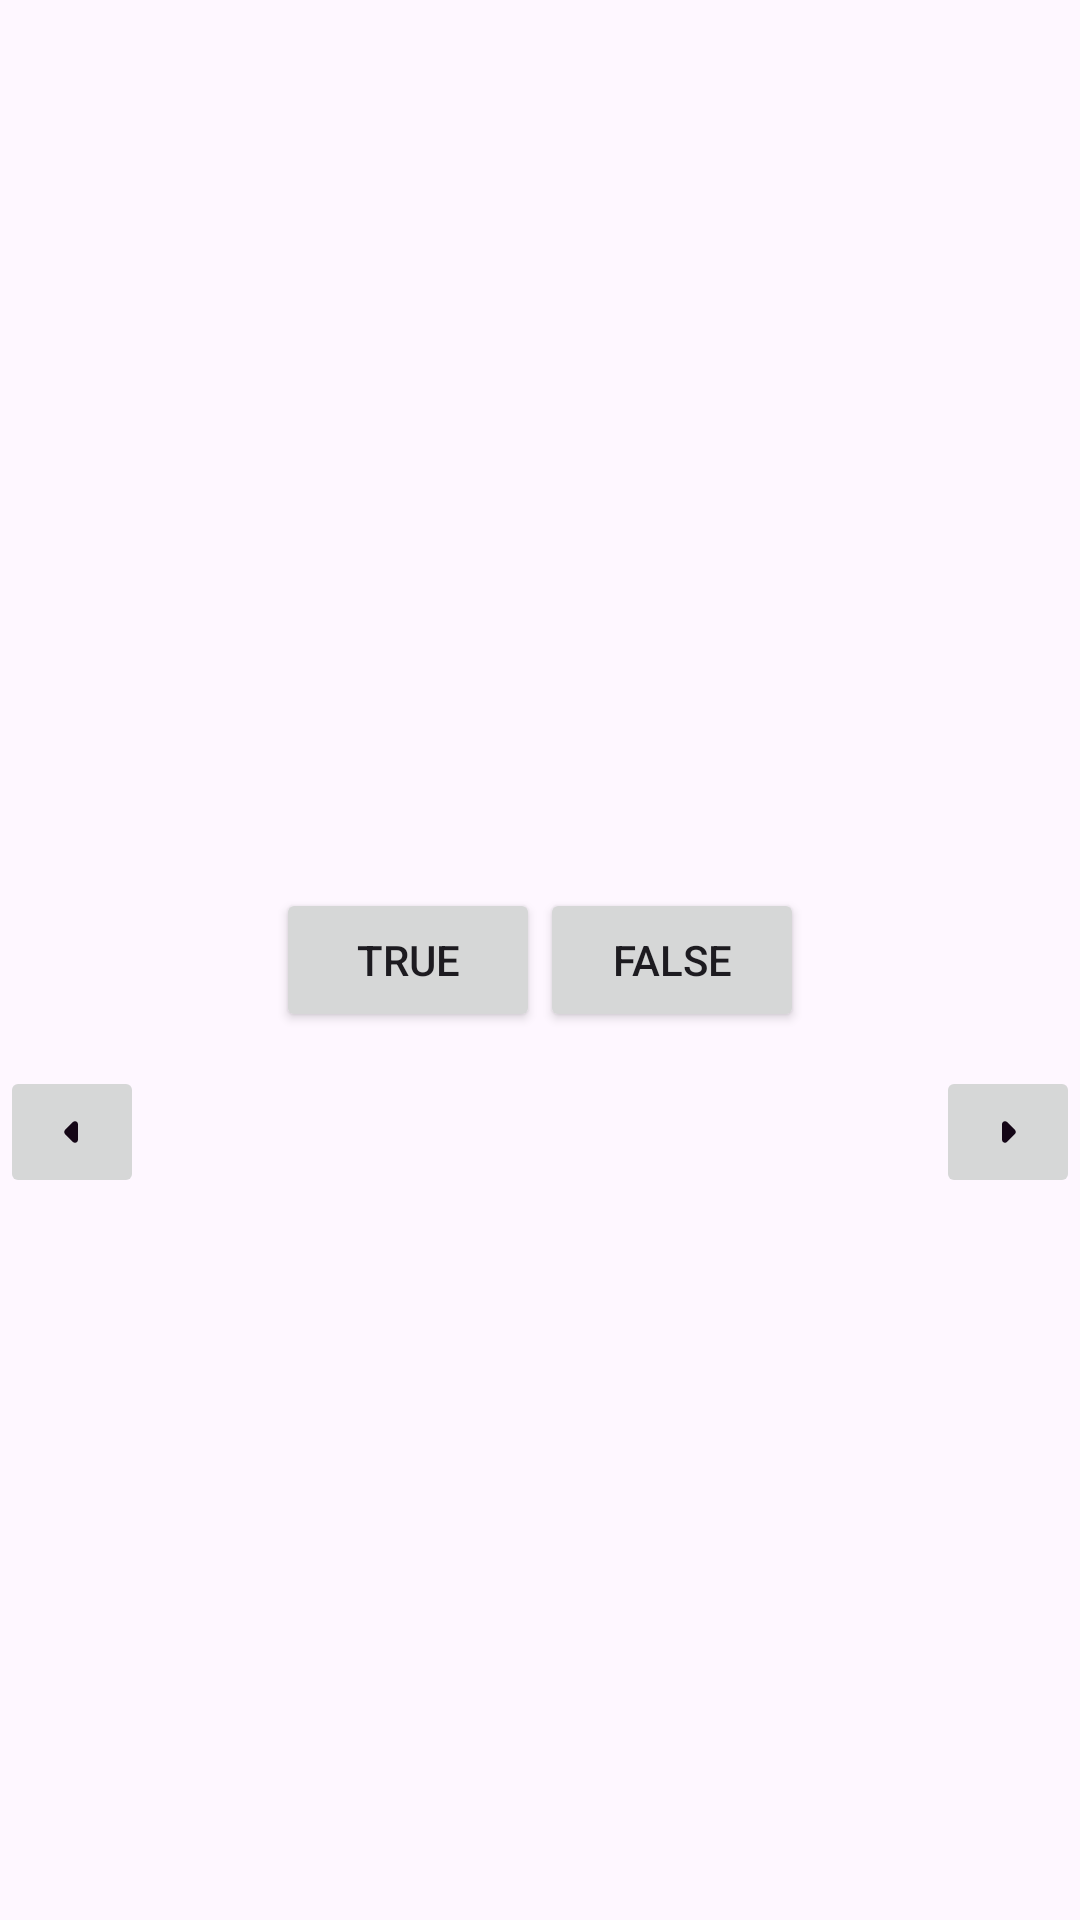

Where to tap for icons on this 1080x1920 app screen, as (x=x, y=y):
Next: (x=1008, y=1132)
Previous: (x=72, y=1132)
